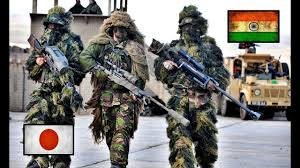Japanese Flag: (23, 125, 73, 155)
